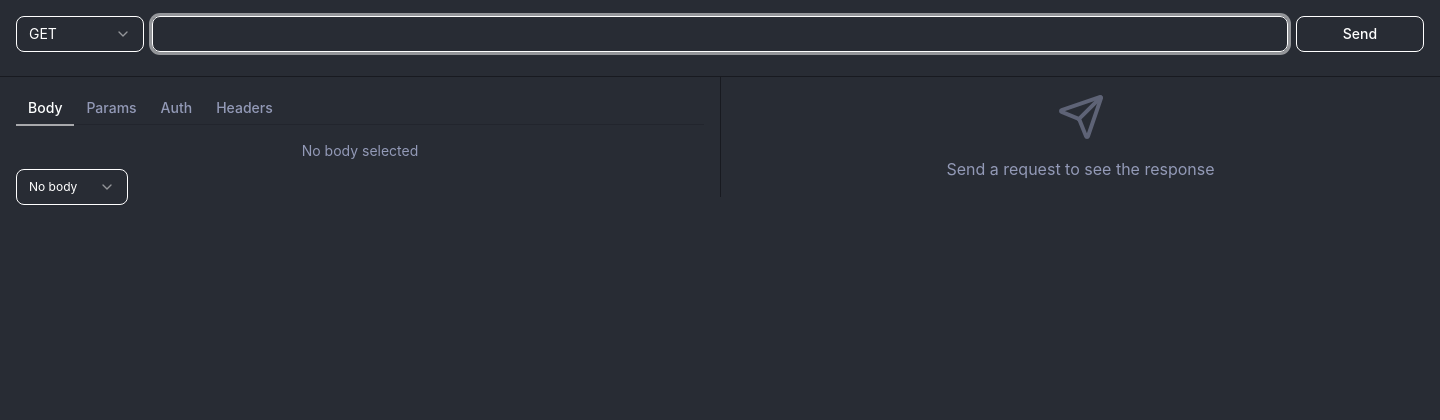
Test case: ApiClient › sends a request and shows the response.
The image size is (1440, 420).
Type "https://example.com/api/v1/contacts" into the field with test id "url-input" at (720, 34), box [152, 16, 1288, 52]
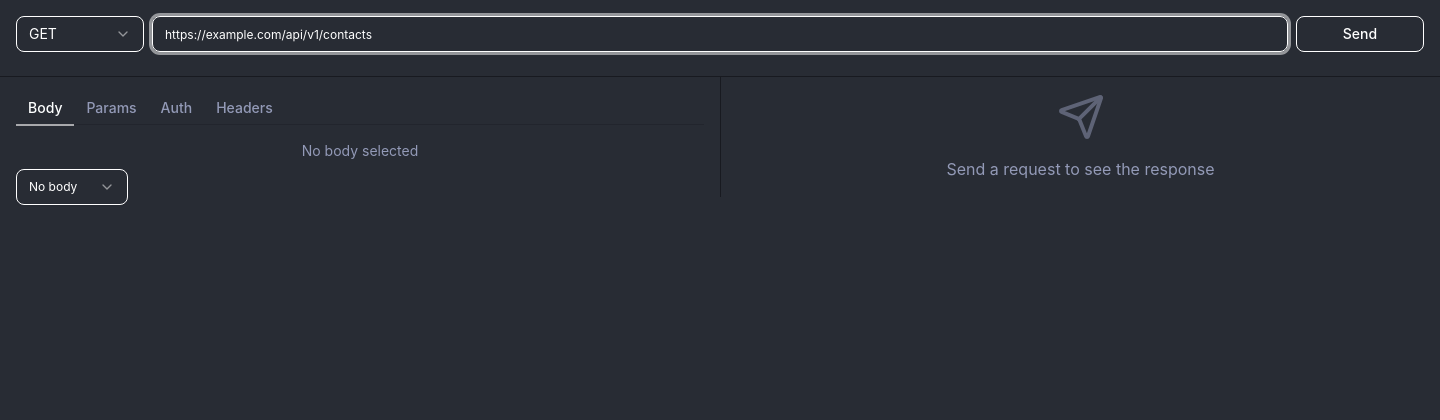
Click the button "Send" at (1360, 34), box [1296, 16, 1424, 52]
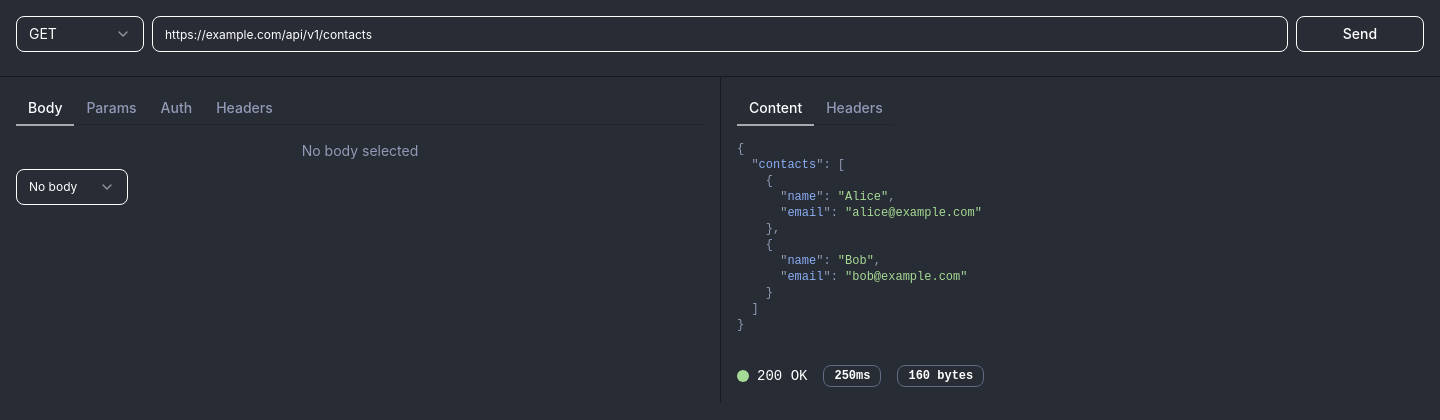
Check: the text with test id "response-status-code" reads "200", box [757, 368, 782, 384]
Check: the text with test id "response-size" reads "160 bytes", box [898, 365, 984, 387]
Check: the text with test id "response-time" reads "250ms", box [823, 365, 881, 387]
